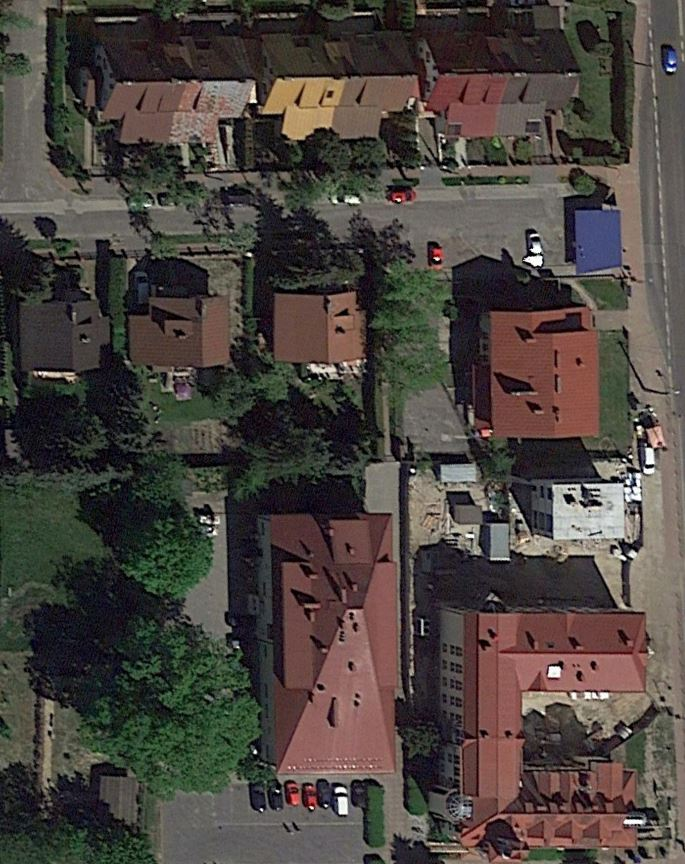block of flats: (431, 595, 658, 859), (239, 498, 413, 790), (532, 473, 632, 547)
family house: (464, 303, 616, 444), (263, 277, 371, 372), (119, 287, 238, 372), (14, 290, 115, 379)
terrace house: (414, 17, 588, 148), (256, 21, 423, 148), (78, 34, 261, 149)
